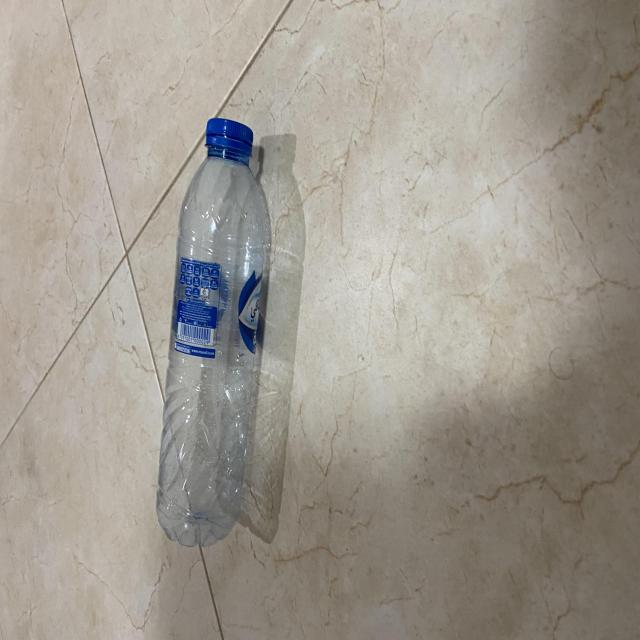plastic: (154, 113, 270, 547)
